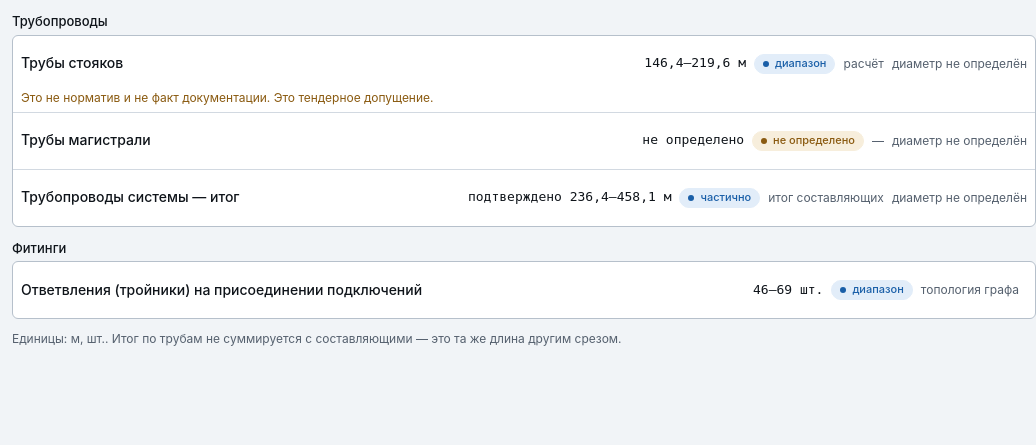
объёмы паспорта ВК › раскрытая позиция показывает составляющие и резерв отдельно
Click the button "Трубы стояков" at (72, 63), box [21,42,1027,86]
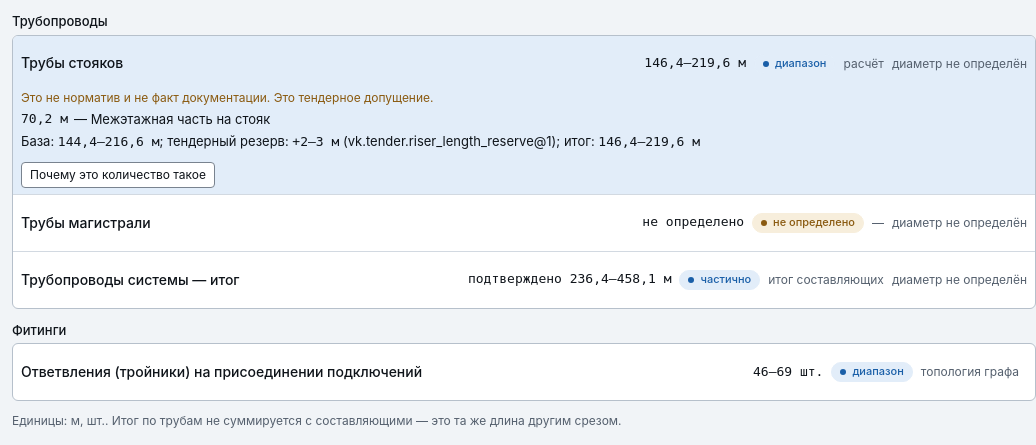
Expected: the text "— Межэтажная часть на стояк" is shown, [74,110,270,128]
Expected: the text "База:" is shown, [21,133,58,149]
Expected: the text "+2–3 м" is shown, [292,134,339,149]
